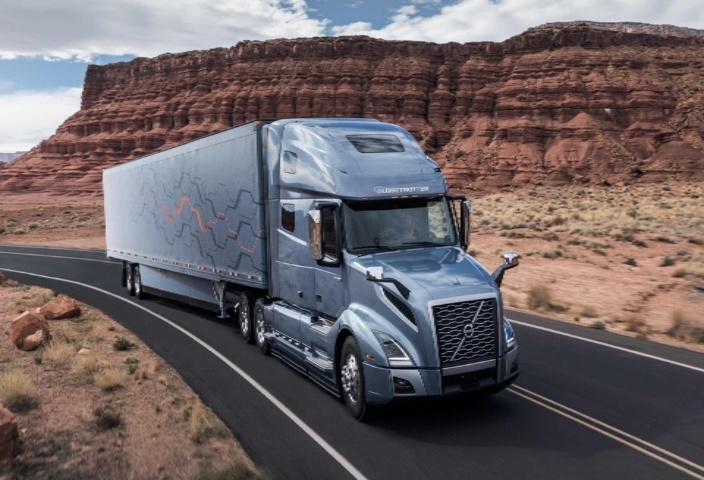truck: (57, 120, 532, 419)
